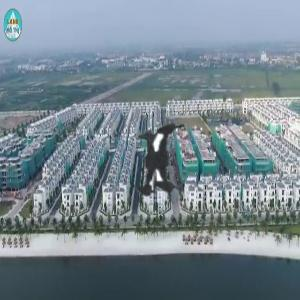drone: (46, 51, 272, 277)
